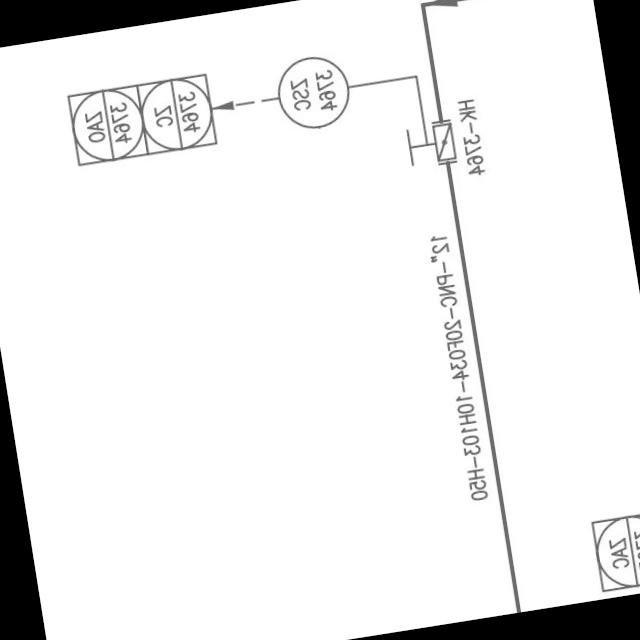BV: (398, 114, 461, 174)
